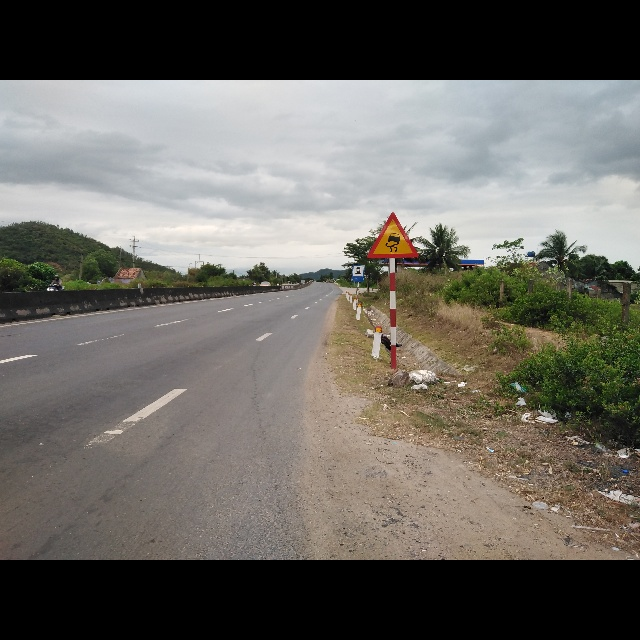Đường trơn trượt: (368, 212, 419, 261)
